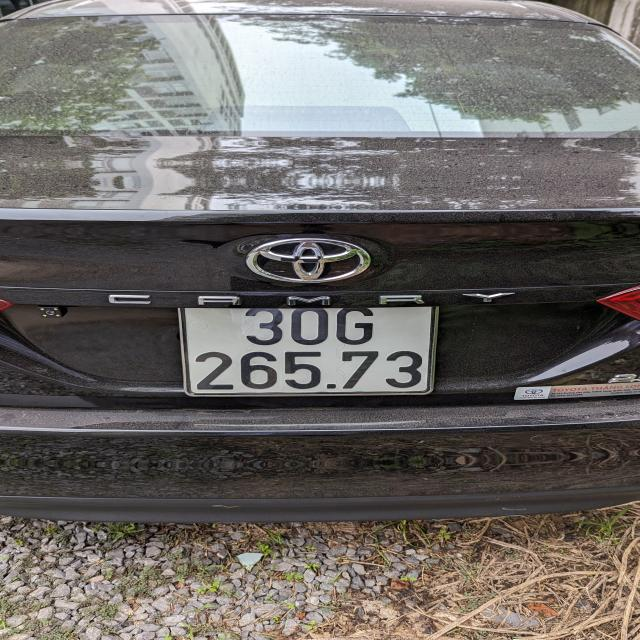License: (177, 305, 438, 397)
